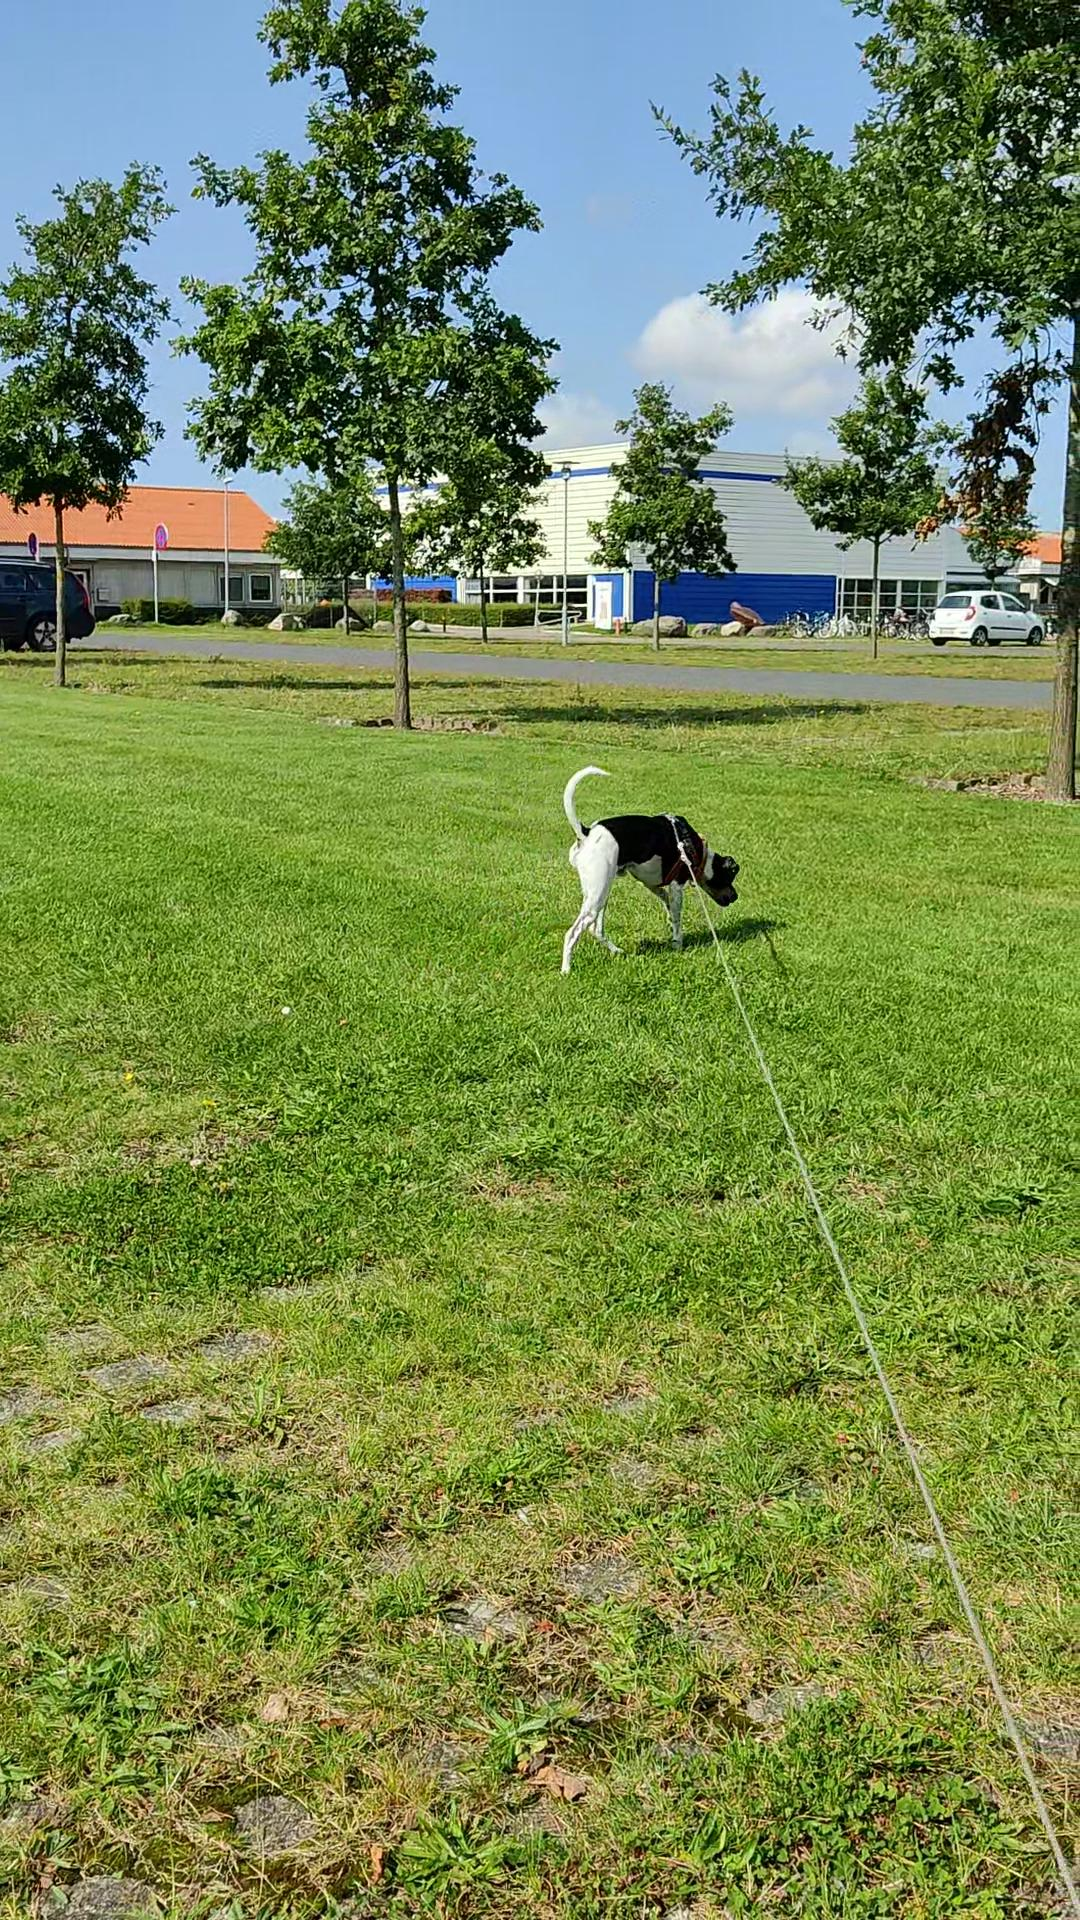Dog: (525, 761, 758, 981)
